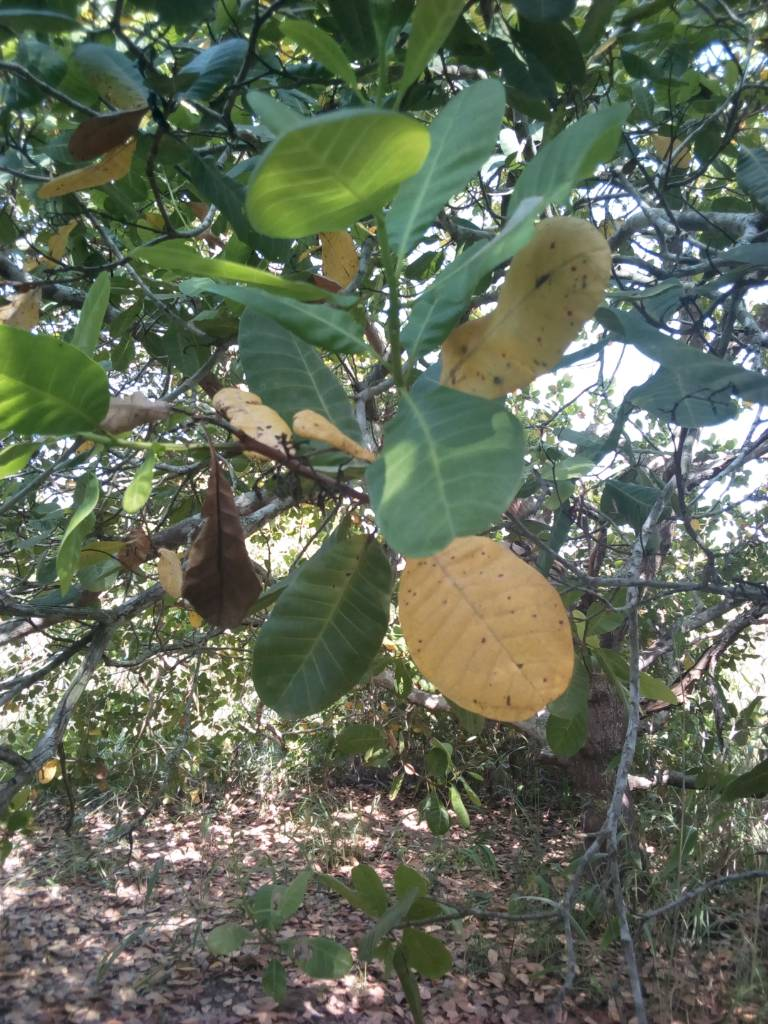Dessèchement des bourgeons: (268, 433, 349, 508)
